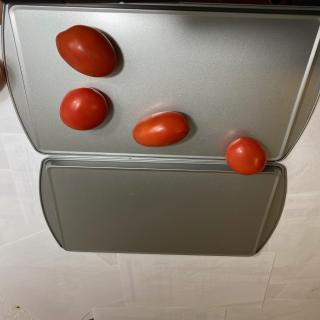Tomato: (55, 24, 117, 78), (59, 87, 108, 131), (132, 111, 190, 147), (225, 137, 267, 175)
